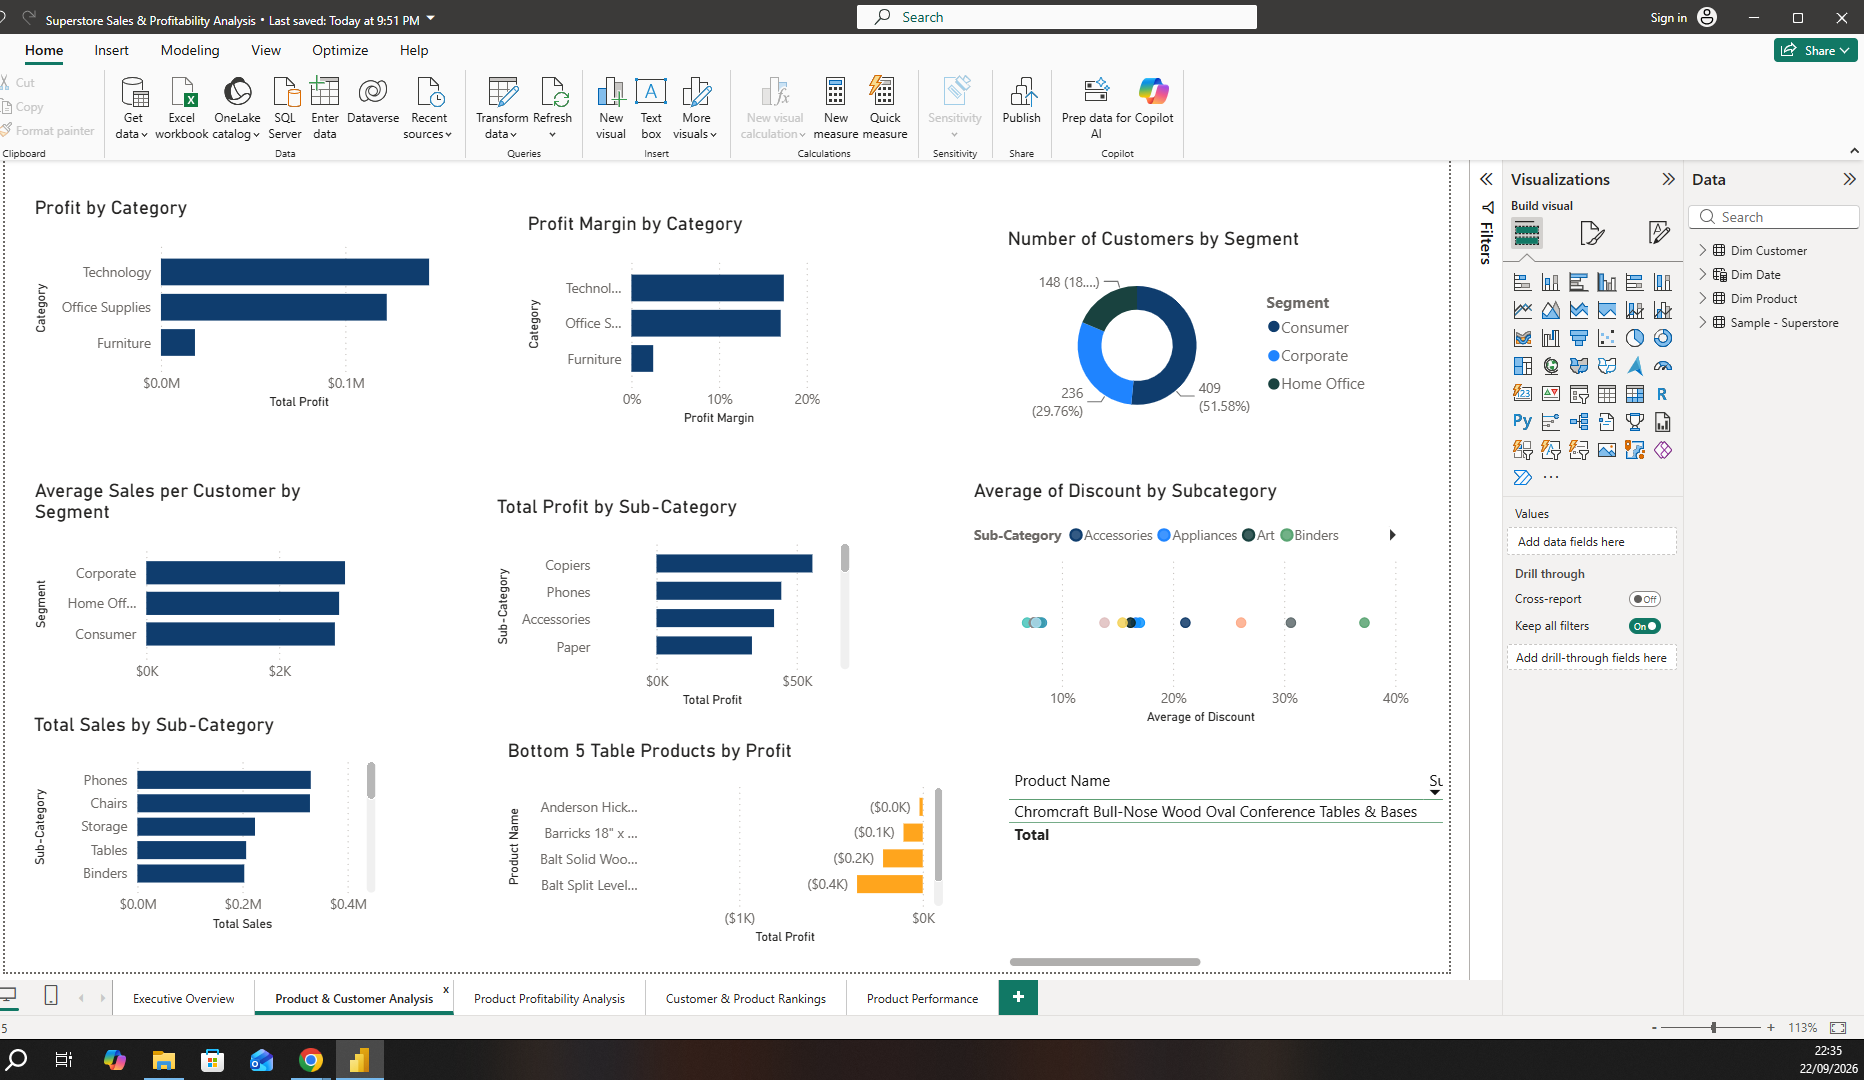

Layout of this report page (visuals, bound fields, positions):
{"tool":"powerbi","page":{"name":"Product & Customer Analysis","canvas":[1280,720],"ordinal":1},"visuals":[{"type":"clusteredBarChart","title":"Profit by Category","fields":{"Category":["Sample - Superstore.Category"],"Y":["Sample - Superstore.Total Profit"]},"box":[21.4,32.1,384.2,193.6],"z":0},{"type":"clusteredBarChart","fields":{"Category":["Sample - Superstore.Category"],"Y":["Sample - Superstore.Profit Margin"]},"box":[458.1,45.7,269.4,193.6],"z":1000},{"type":"donutChart","fields":{"Category":["Sample - Superstore.Segment"],"Y":["Sample - Superstore.Number of Customers"]},"box":[884.1,59.3,336.5,179.9],"z":2000},{"type":"clusteredBarChart","fields":{"Category":["Sample - Superstore.Segment"],"Y":["Sample - Superstore.Average Sales per Customer"]},"box":[21.4,283,295.7,188.7],"z":3000},{"type":"barChart","fields":{"Category":["Sample - Superstore.Sub-Category"],"Y":["Sample - Superstore.Total Profit"]},"box":[431.1,297.4,322.9,192.5],"z":4000},{"type":"scatterChart","title":"Average of Discount by Subcategory","fields":{"Category":["Sample - Superstore.Sub-Category"],"X":["Avg(Sample - Superstore.Discount)"],"Series":["Sample - Superstore.Sub-Category"]},"box":[854,283,395.9,221.8],"z":5000},{"type":"barChart","fields":{"Category":["Sample - Superstore.Sub-Category"],"Y":["Sample - Superstore.Total Sales"]},"box":[20.7,489.9,313.4,197.2],"z":6000},{"type":"barChart","title":"Bottom 5 Table Products by Profit","fields":{"Category":["Sample - Superstore.Product Name"],"Y":["Sample - Superstore.Total Profit"]},"box":[440.6,513.8,396.1,186.1],"z":7000},{"type":"tableEx","fields":{"Values":["Sample - Superstore.Product Name","Sum(Sample - Superstore.Sales)","Sum(Sample - Superstore.Quantity)","Avg(Sample - Superstore.Discount)","Sum(Sample - Superstore.Profit)","Sample - Superstore.Profit Margin"]},"box":[884.4,534.4,396.1,186.1],"z":8000}]}

Visuals, with their boxes on the page's 1280x720 design canvas (x1, y1, x2, y2). These are canvas units, not pixel positions in the 1864x1080 screenshot, which may show the page scaled, cropped or inside an application window:
"Profit by Category" clusteredBarChart: bbox=[21, 32, 406, 226]
clusteredBarChart - Sample - Superstore.Category x Sample - Superstore.Profit Margin: bbox=[458, 46, 728, 239]
donutChart - Sample - Superstore.Segment x Sample - Superstore.Number of Customers: bbox=[884, 59, 1221, 239]
clusteredBarChart - Sample - Superstore.Segment x Sample - Superstore.Average Sales per Customer: bbox=[21, 283, 317, 472]
barChart - Sample - Superstore.Sub-Category x Sample - Superstore.Total Profit: bbox=[431, 297, 754, 490]
"Average of Discount by Subcategory" scatterChart: bbox=[854, 283, 1250, 505]
barChart - Sample - Superstore.Sub-Category x Sample - Superstore.Total Sales: bbox=[21, 490, 334, 687]
"Bottom 5 Table Products by Profit" barChart: bbox=[441, 514, 837, 700]
tableEx - Sample - Superstore.Product Name x Sum(Sample - Superstore.Sales): bbox=[884, 534, 1280, 720]
